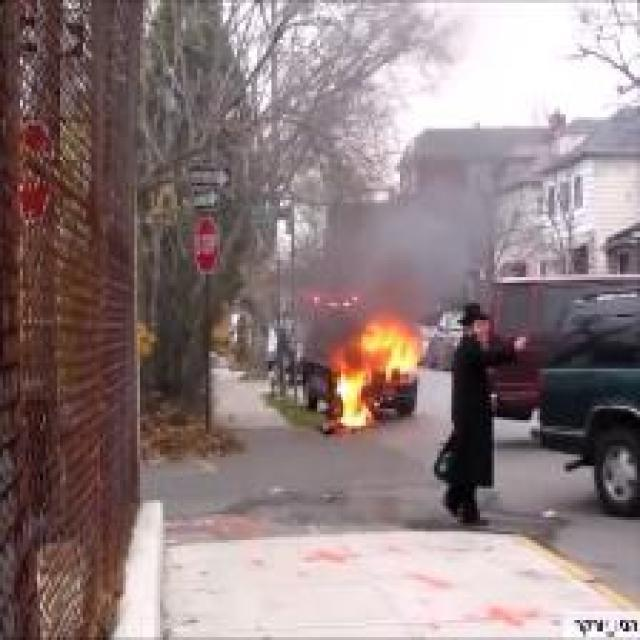Fire: (330, 372, 374, 428), (369, 325, 416, 374)
